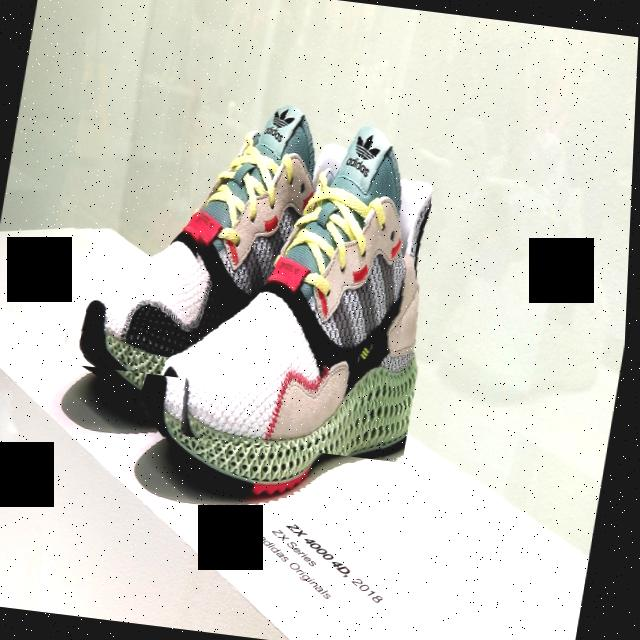shoe: (157, 85, 462, 462), (45, 48, 315, 388)
